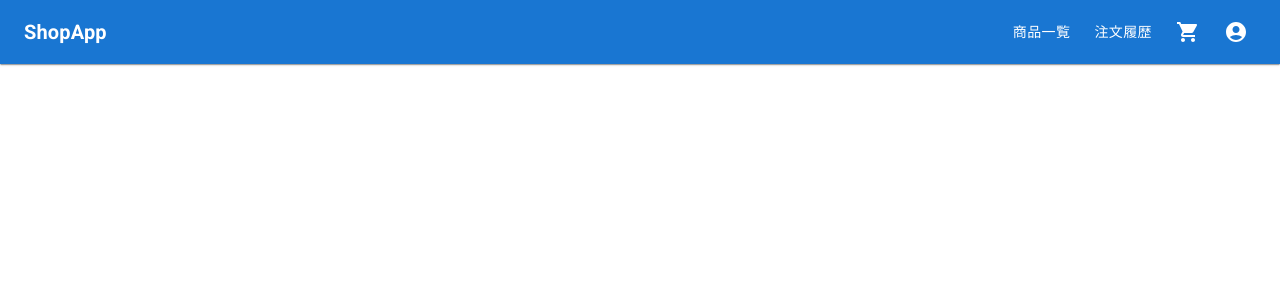
Test: Header › authenticated user › shows user menu on account icon click
What coordinates should you click on to do the following:
click the button with test id "AccountCircleIcon"
I would click on:
 (1236, 32)
Its box is [1216,12,1256,52].
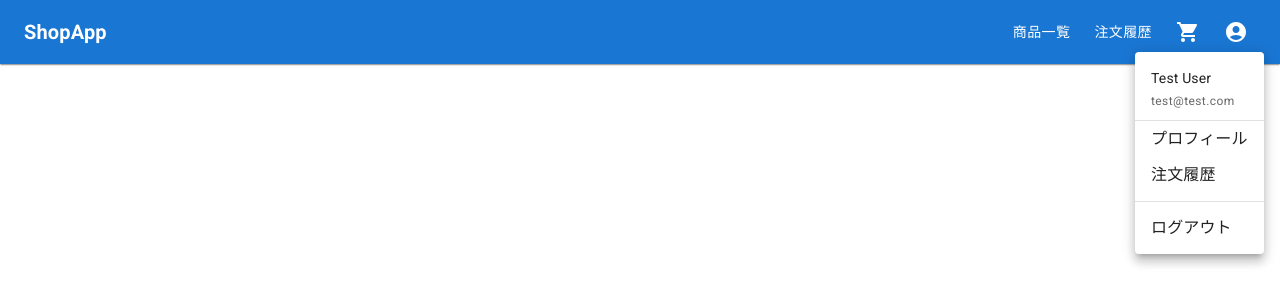
Expected: the text "Test User" is shown, [1151,70,1211,86]
Expected: the text "test@test.com" is shown, [1151,94,1235,108]
Expected: the menu item "プロフィール" is shown, [1151,129,1248,148]
